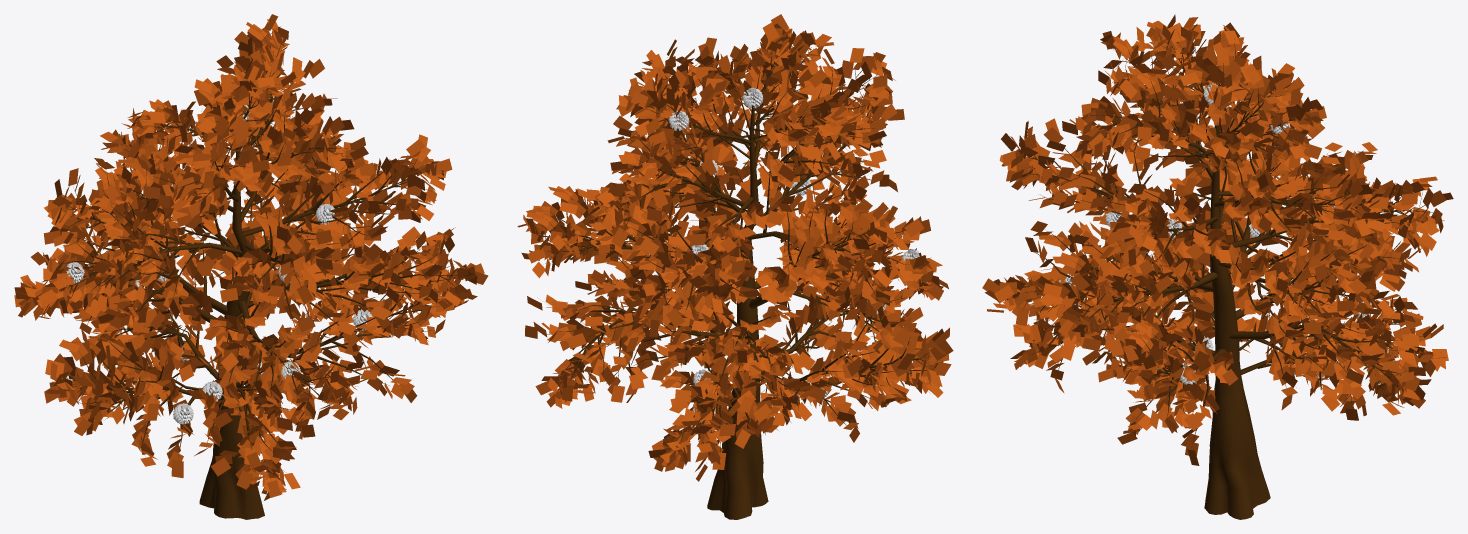
Rendered from chestnuttreeV2VR.fbx.
The picture shows the model from 3 angles, left to right: view 1: azimuth 30°, elevation 25°; view 2: azimuth 150°, elevation 25°; view 3: azimuth 270°, elevation 25°; orthographic projection.
Visible parts, largest first — view 1: Foliage001; view 2: Foliage001; view 3: Foliage001.
Boxes of the visible parts, <box> form: Foliage001: <box>14,14,488,519</box>; Foliage001: <box>517,14,953,519</box>; Foliage001: <box>982,14,1453,519</box>.
Bounding box in the file's own units: 396 × 459 × 410.
